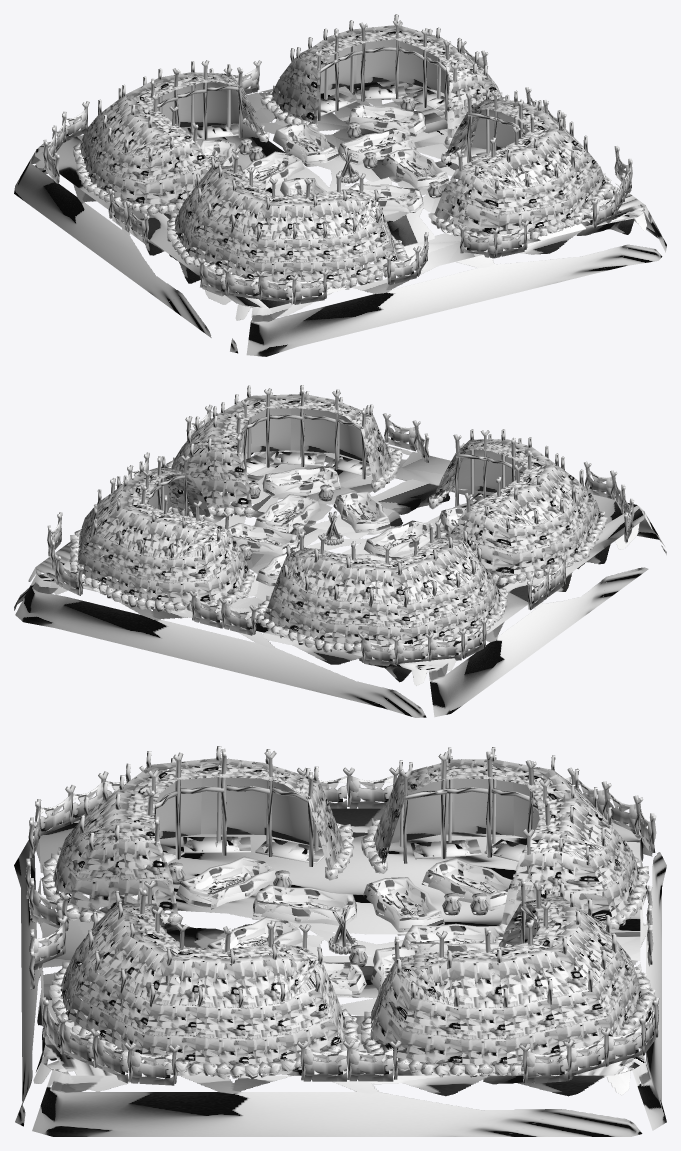
The model's file is wonder.dae.
3 renders of one model, top to bottom at view 1: azimuth 30°, elevation 25°; view 2: azimuth 150°, elevation 25°; view 3: azimuth 270°, elevation 25°, orthographic. The views are drawn at different scales.
Parts seen in each view (by area): view 1: wonder; view 2: wonder; view 3: wonder.
Boxes of the visible parts, box(x1,y1,x2,y2) form: wonder: box(14, 14, 666, 356); wonder: box(14, 385, 666, 717); wonder: box(14, 746, 666, 1136).
Size of the model in its own units: 44.54 by 42.96 by 11.34.
